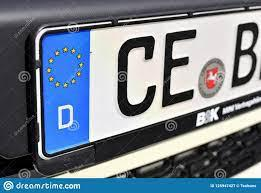B: (230, 22, 259, 89)
C: (114, 35, 158, 119)
E: (159, 28, 199, 110)
